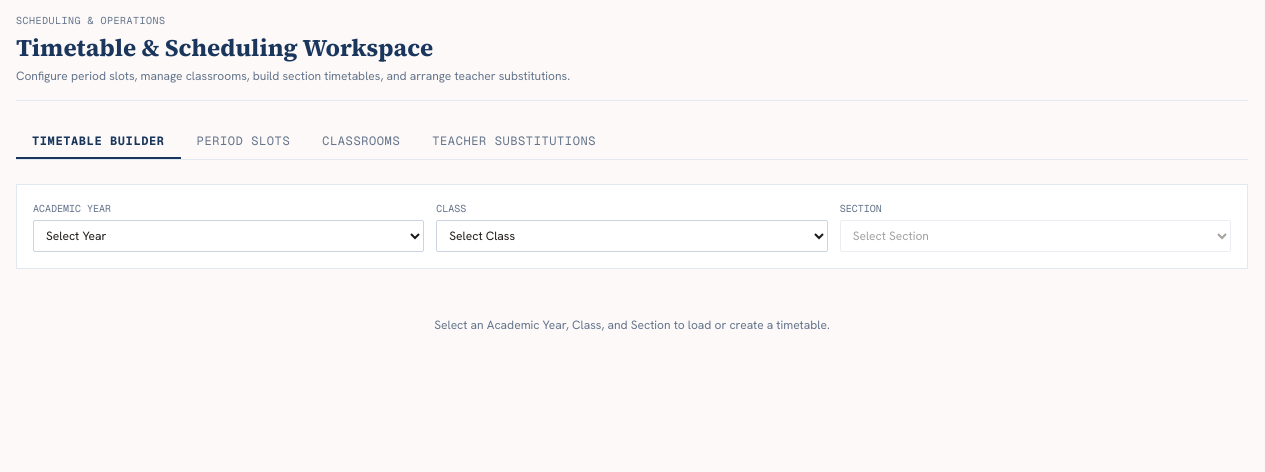
Test case: TimetablePage Component › switches tabs on click
This screenshot has width=1265, height=472.
Expected: the button "Timetable Builder" is shown, [16,125,181,159]
Click the button "Period Slots" at (243, 142), box [181,125,306,159]
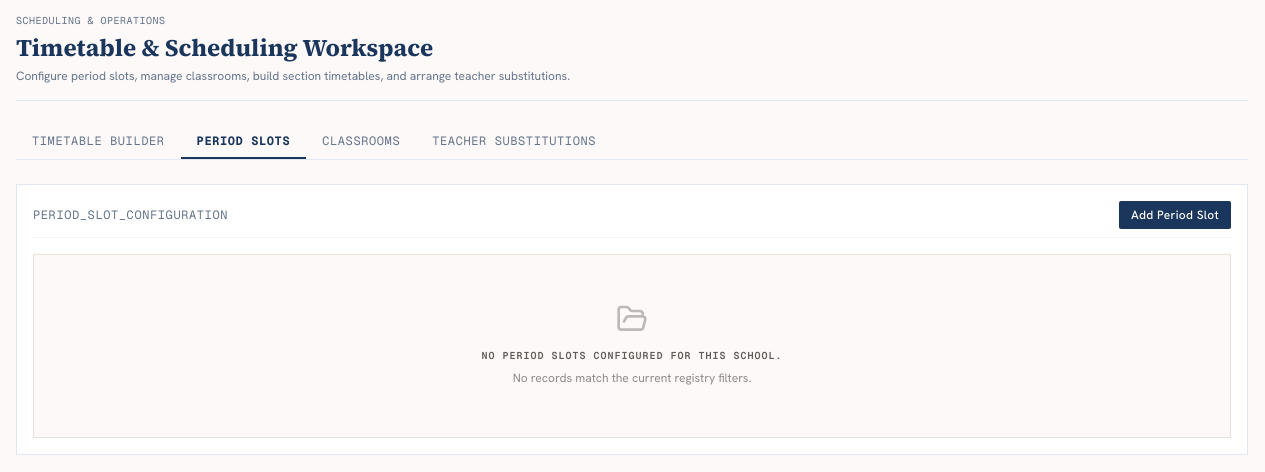
Expected: the text "PERIOD_SLOT_CONFIGURATION" is shown, [33,207,228,223]
Click the button "Classrooms" at (361, 142), box [306,125,416,159]
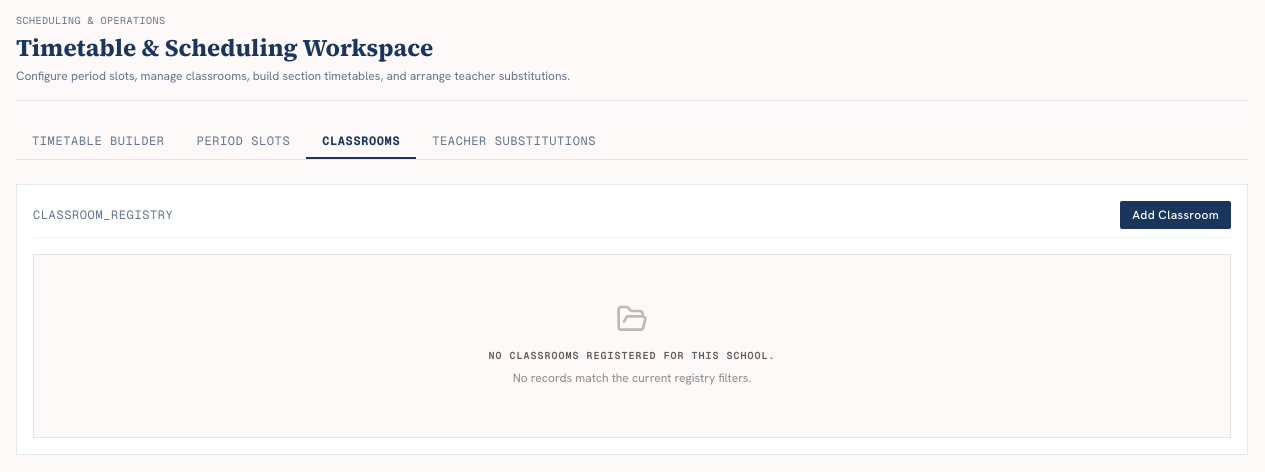
Expected: the text "CLASSROOM_REGISTRY" is shown, [33,207,173,223]
Click the button "Teacher Substitutions" at (514, 142), box [416,125,612,159]
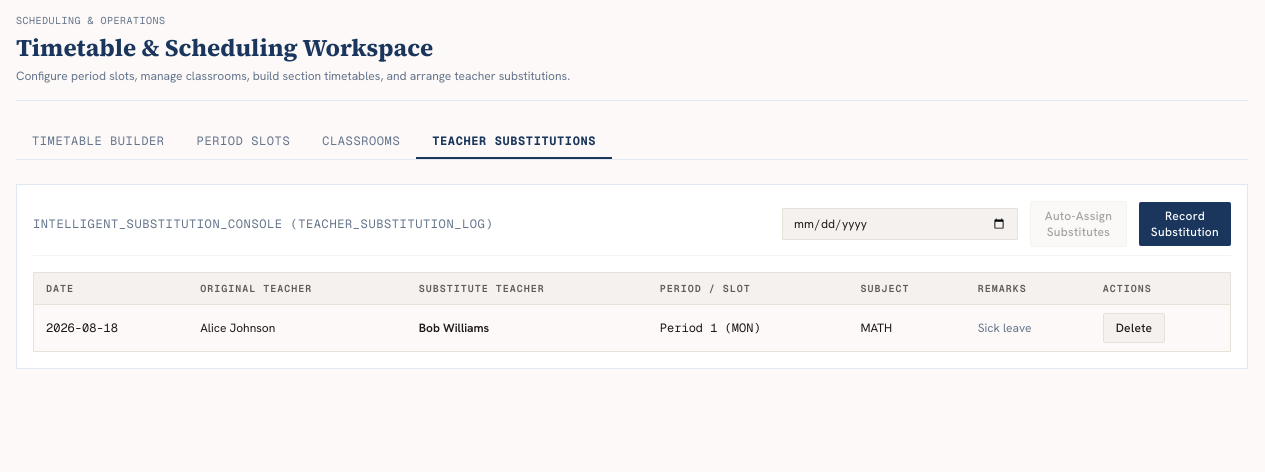
Expected: the text "INTELLIGENT_SUBSTITUTION_CONSOLE (TEACHER_SUBSTITUTION_LOG)" is shown, [33,216,493,232]
